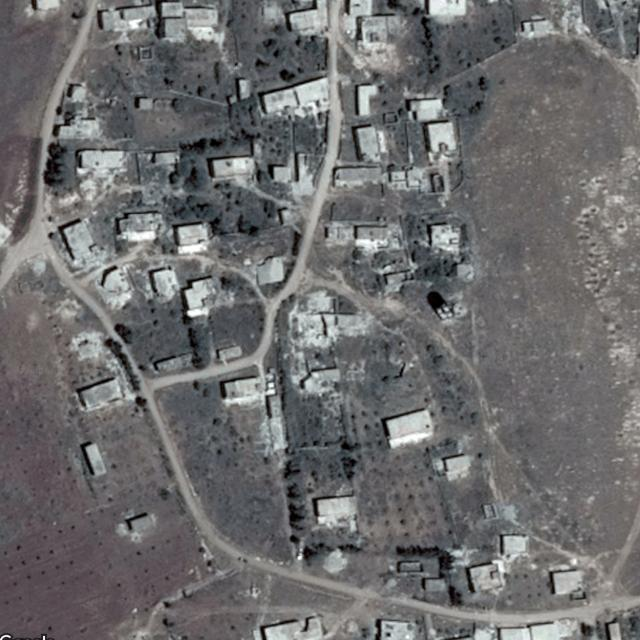damaged_building: (291, 292, 374, 376), (74, 148, 124, 200), (94, 267, 137, 312), (64, 330, 114, 360)
